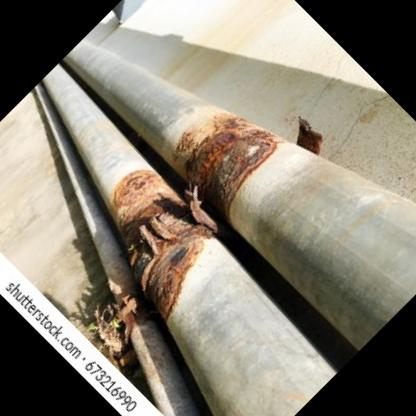burst: (181, 104, 268, 192), (120, 200, 208, 275)
